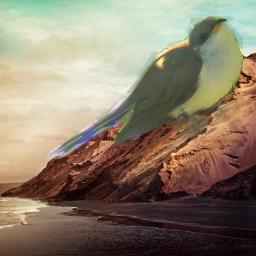Cuckoo: (43, 16, 243, 159)
